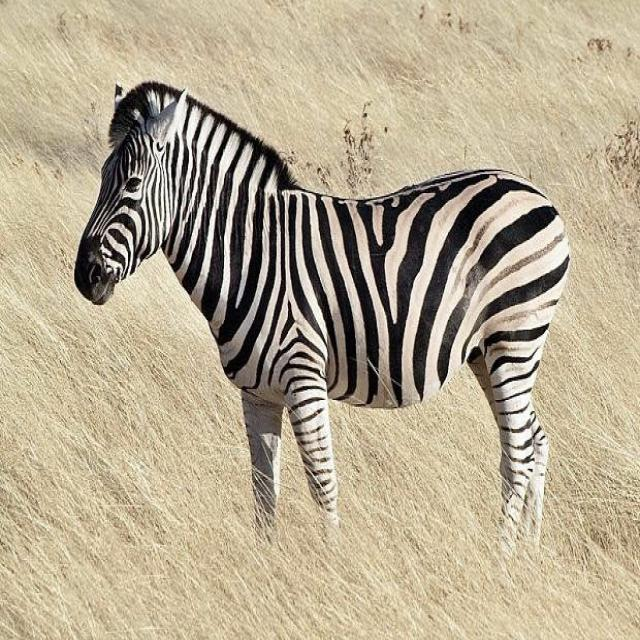zebra: (74, 81, 569, 550)
